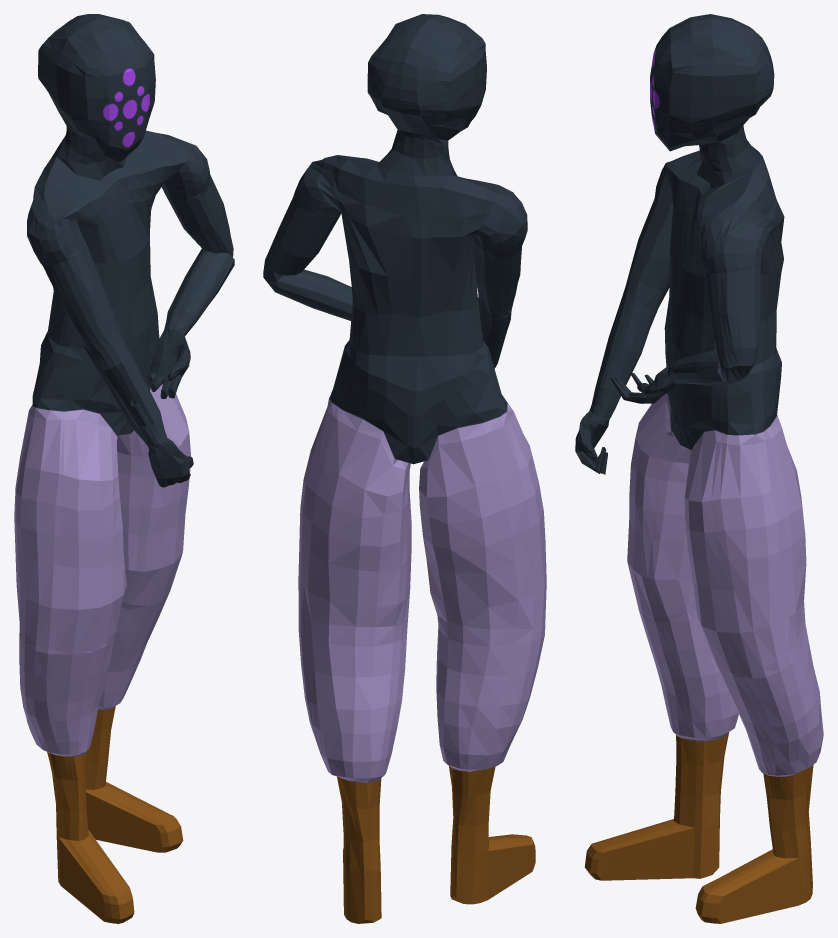
The model's file is Oracle_Attack_000001.obj.
The picture shows the model from 3 angles, left to right: view 1: azimuth 30°, elevation 25°; view 2: azimuth 150°, elevation 25°; view 3: azimuth 270°, elevation 25°; orthographic projection. The views are drawn at different scales.
Visible parts, largest first — view 1: Cube; view 2: Cube; view 3: Cube.
Boxes of the visible parts, left/top/right/bottom form: Cube: left=14, top=14, right=234, bottom=923; Cube: left=263, top=14, right=546, bottom=923; Cube: left=575, top=14, right=823, bottom=923.
Bounding box in the file's own units: 1.15 × 3.94 × 1.02.
